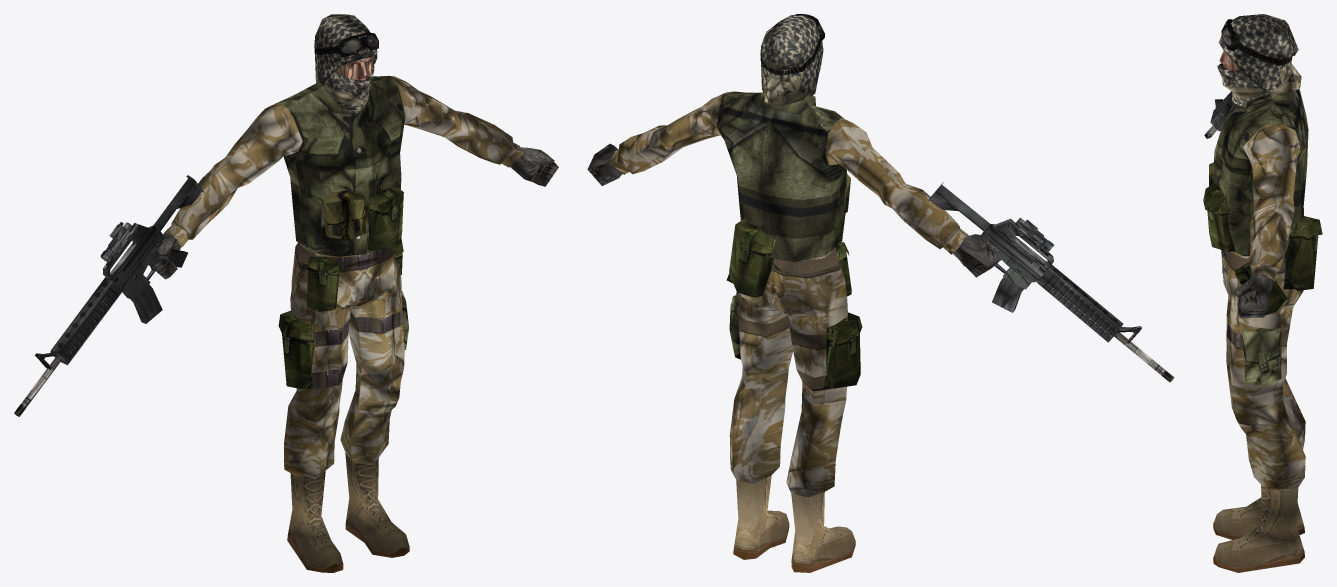
The model's file is SAS2.glb.
3 renders of one model, left to right at view 1: azimuth 30°, elevation 25°; view 2: azimuth 150°, elevation 25°; view 3: azimuth 270°, elevation 25°, orthographic.
Parts seen in each view (by area): view 1: _SAS2; view 2: _SAS2; view 3: _SAS2.
Boxes of the visible parts, bbox=[...] form: _SAS2: bbox=[14, 14, 558, 572]; _SAS2: bbox=[587, 14, 1174, 572]; _SAS2: bbox=[1203, 14, 1322, 572].
Size of the model in its own units: 2.2 by 2 by 0.4071.
Materials: 4 (4 with a texture image).
